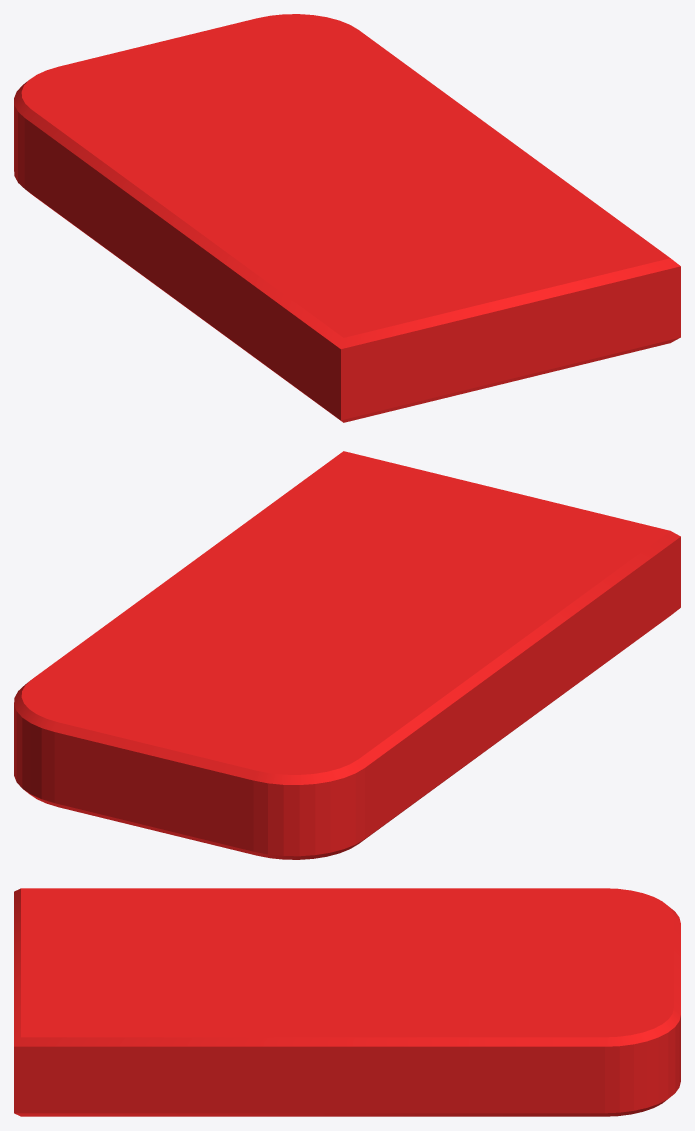
Rendered from side-board-red.fbx.
3 renders of one model, top to bottom at view 1: azimuth 30°, elevation 25°; view 2: azimuth 150°, elevation 25°; view 3: azimuth 270°, elevation 25°, orthographic. The views are drawn at different scales.
Visible parts, largest first — view 1: Cube.021; view 2: Cube.021; view 3: Cube.021.
Part boxes in pixels (x1,y1,x2,y2): Cube.021: [14, 14, 680, 422]; Cube.021: [14, 451, 680, 859]; Cube.021: [14, 888, 680, 1116].
Size of the model in its own units: 82.52 by 19.69 by 150.
